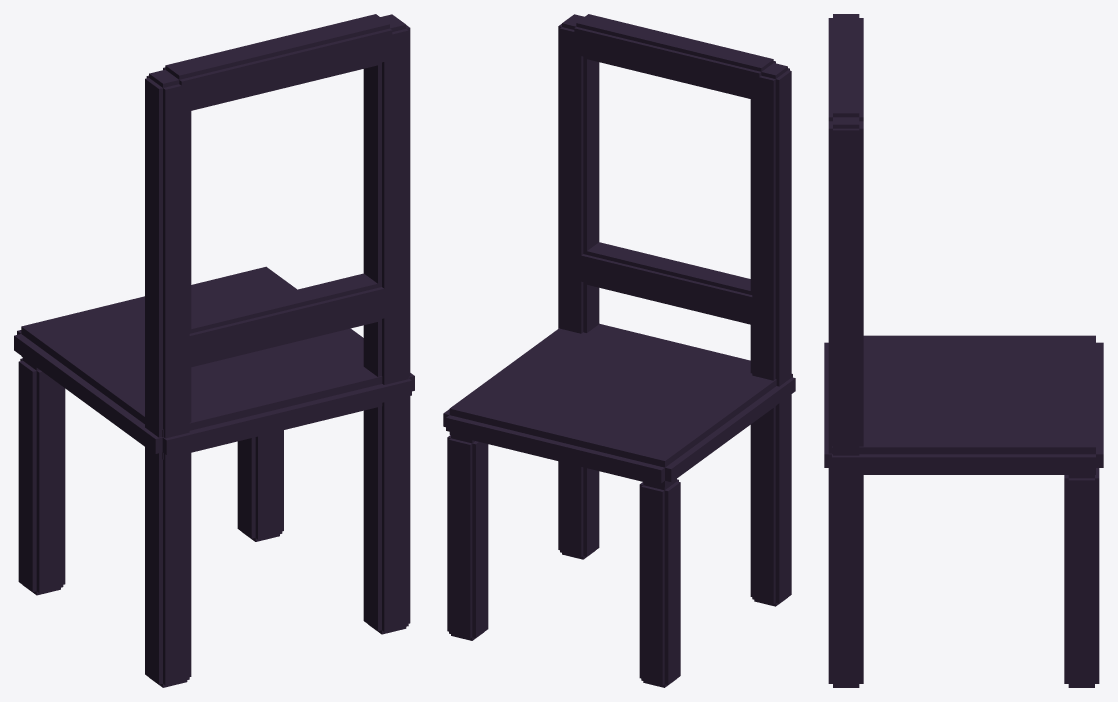
Rendered from obsidian_chair_v0.glb.
3 renders of one model, left to right at view 1: azimuth 30°, elevation 25°; view 2: azimuth 150°, elevation 25°; view 3: azimuth 270°, elevation 25°, orthographic. The views are drawn at different scales.
Visible parts, largest first — view 1: obsidian_chair_v0; view 2: obsidian_chair_v0; view 3: obsidian_chair_v0.
Boxes of the visible parts, x1,y1,x2,y2 form: obsidian_chair_v0: [14, 14, 414, 687]; obsidian_chair_v0: [443, 14, 795, 687]; obsidian_chair_v0: [824, 14, 1103, 687].
Size of the model in its own units: 0.64 by 1.43 by 0.64.
